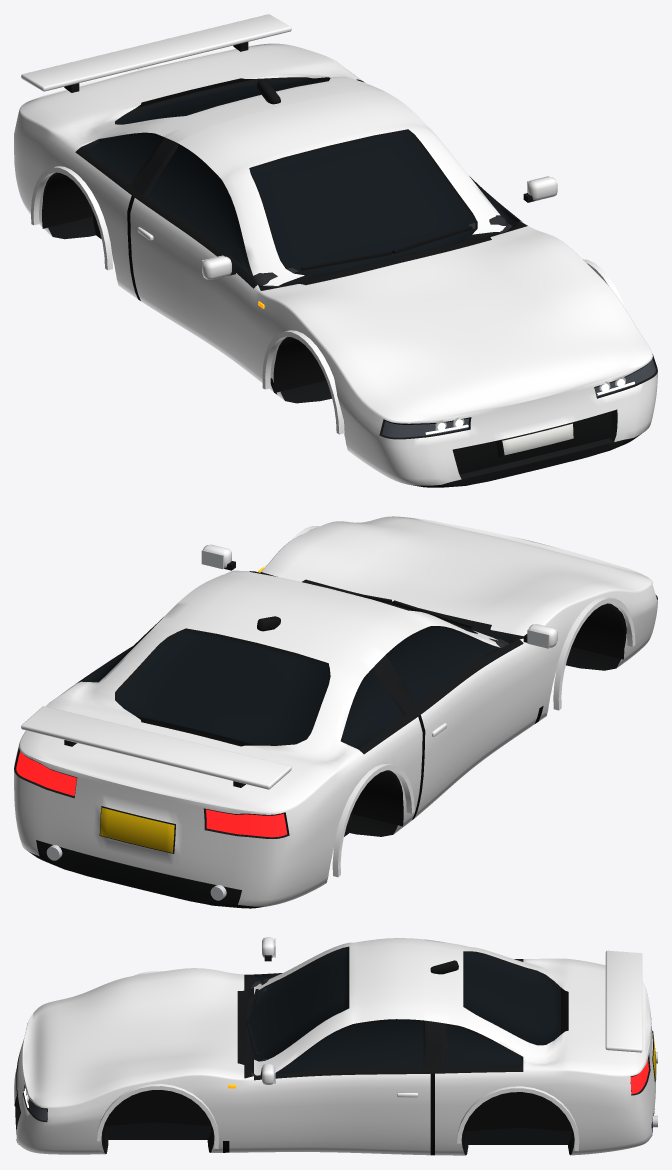
Rendered from sports.glb.
3 renders of one model, top to bottom at view 1: azimuth 30°, elevation 25°; view 2: azimuth 150°, elevation 25°; view 3: azimuth 270°, elevation 25°, orthographic. The views are drawn at different scales.
Parts seen in each view (by area): view 1: sports; view 2: sports; view 3: sports.
Part boxes in pixels (x1=…): sports: x1=14, y1=14, x2=657, y2=487; sports: x1=14, y1=516, x2=657, y2=908; sports: x1=14, y1=937, x2=657, y2=1155.
Size of the model in its own units: 2.29 by 1.17 by 4.56.
